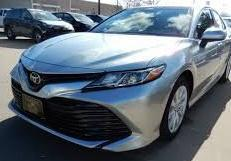Cars: (12, 8, 231, 152)
